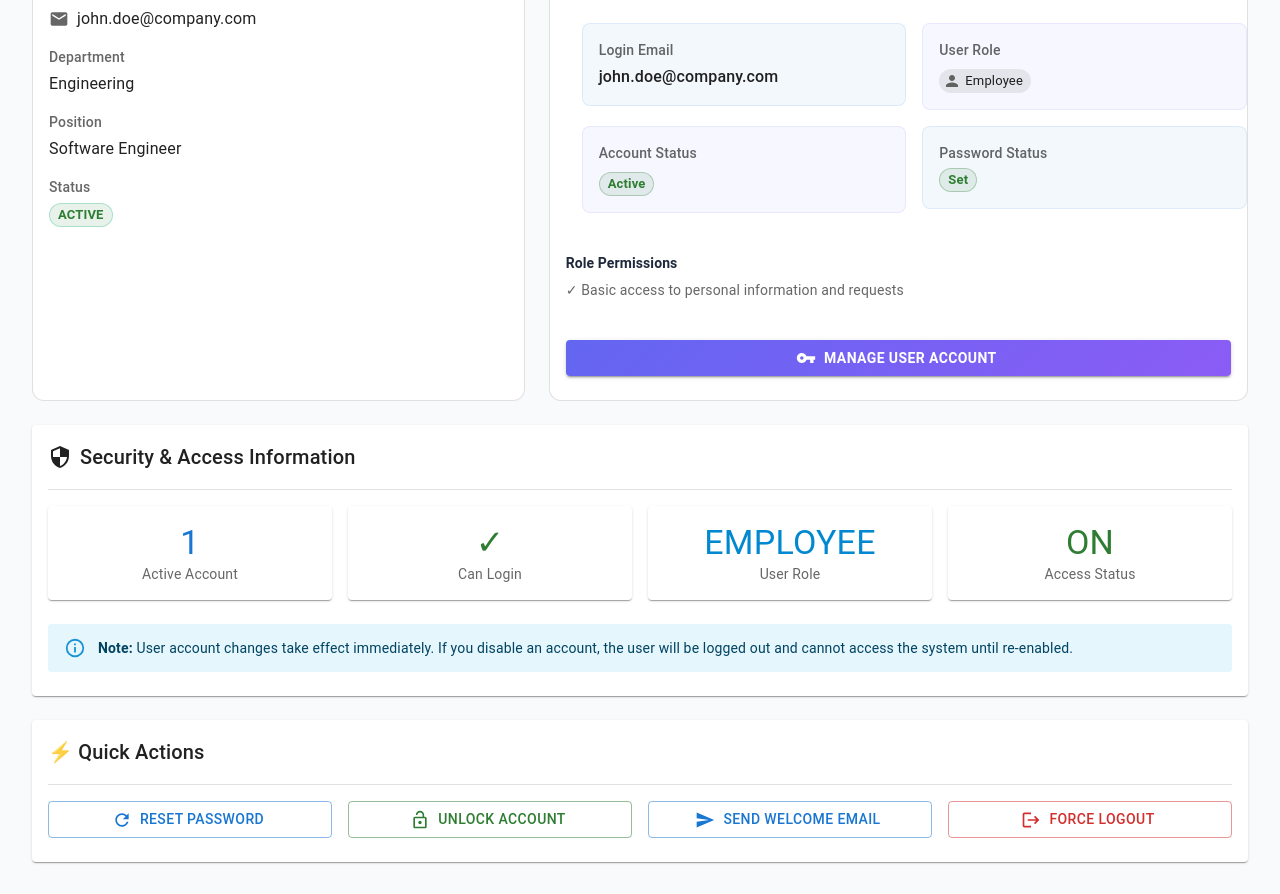
Scenario: UserAccountManagementPage › Quick Actions - Confirmation Dialogs › opens Unlock Account confirmation dialog for locked user
(page scrolled)
What coordinates should you click on to do the following:
click the button with aria-label "unlock this account"
I would click on:
 (490, 820)
Its box is x1=348 y1=802 x2=632 y2=838.
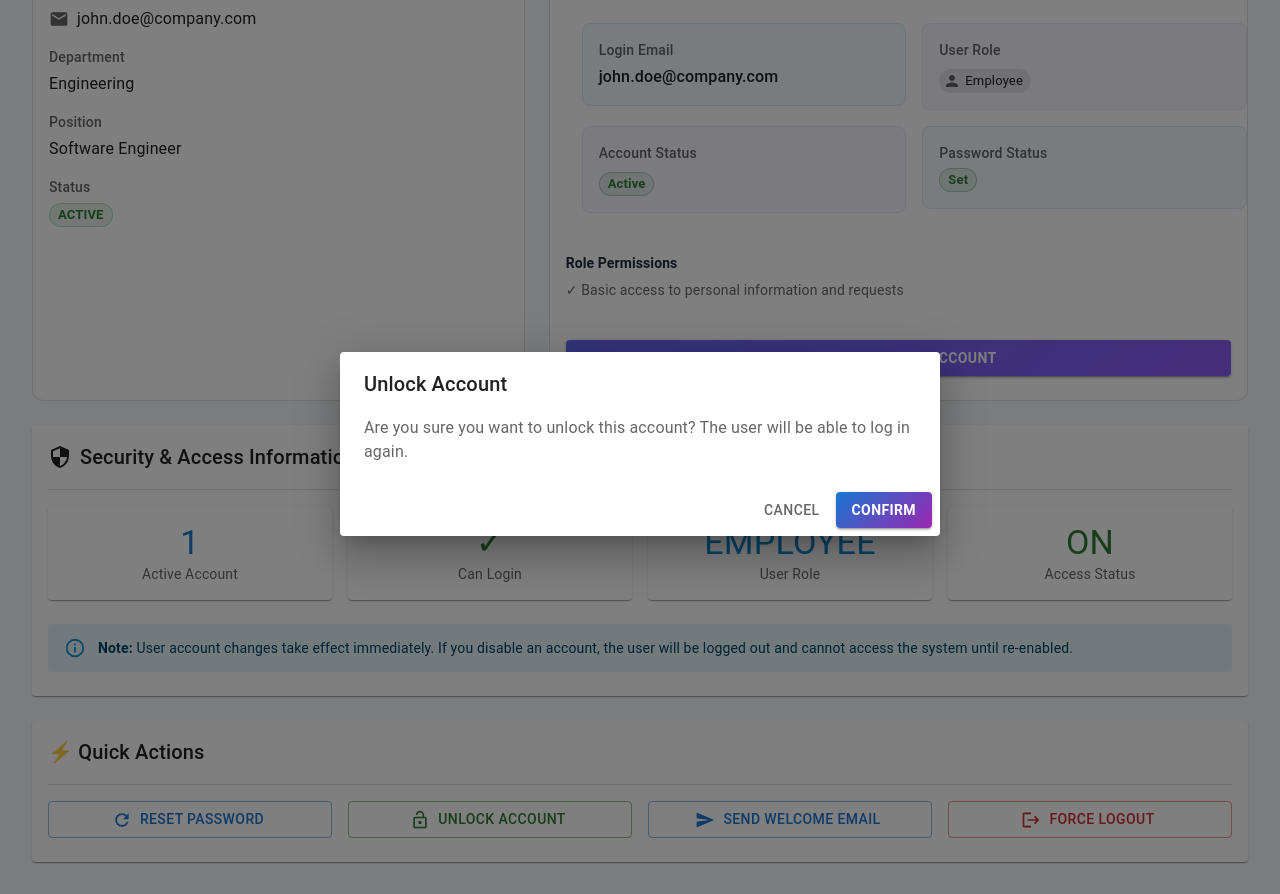
Expected: the dialog is shown, x1=340 y1=352 x2=940 y2=536
Expected: the text "Are you sure you want to unlock" is shown, x1=364 y1=418 x2=910 y2=461
